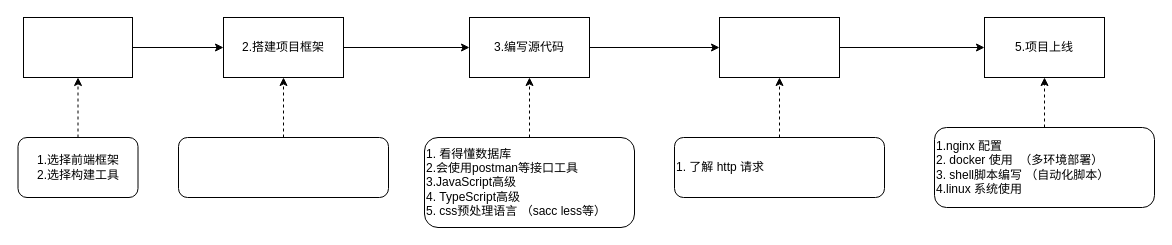
The diagram is 1172 pixels wide and 245 high, and some of its shapes have lost their labels. Each missing label, with the centre of its shape:
1. 配置框架的配置文件 2.配置构建工具的配置文件（eslint）: point 283,167
1.技术选型: point 77,47
4.前后端联调: point 779,47
